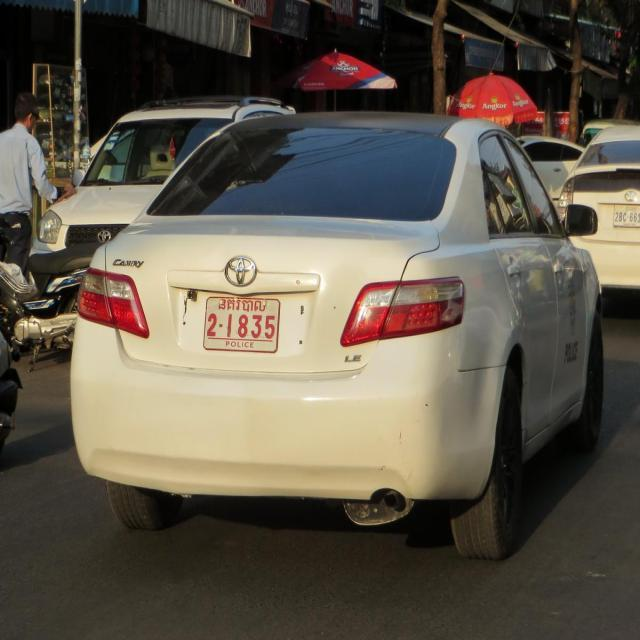Police: (217, 297, 267, 313)
